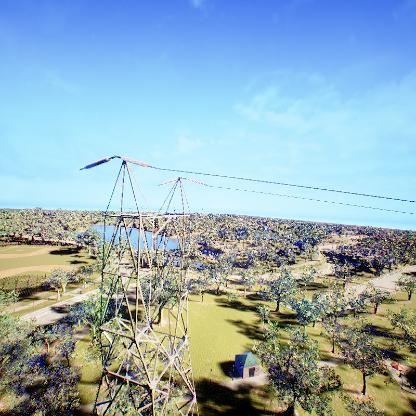tower: (79, 155, 207, 416)
